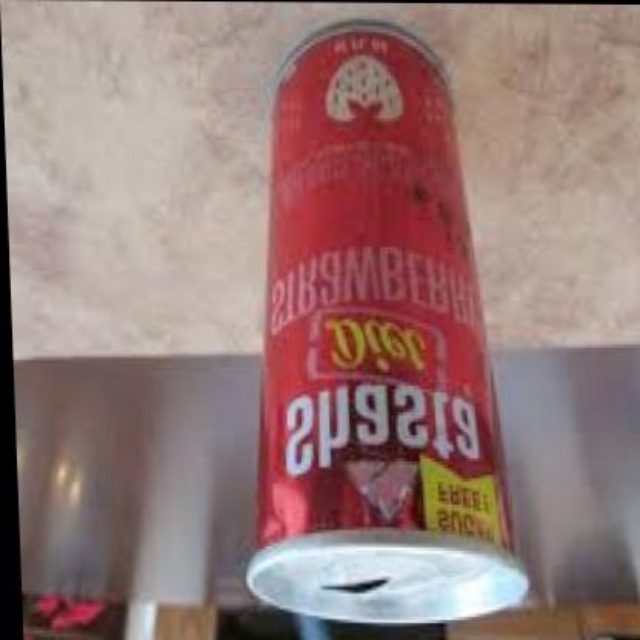trash: (248, 25, 526, 638)
